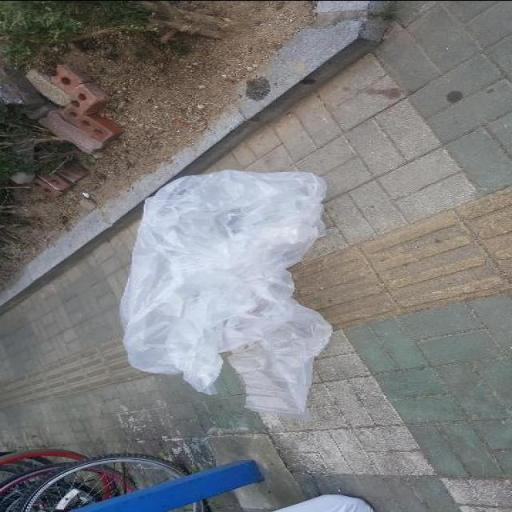plastic-bag: (118, 169, 340, 417)
